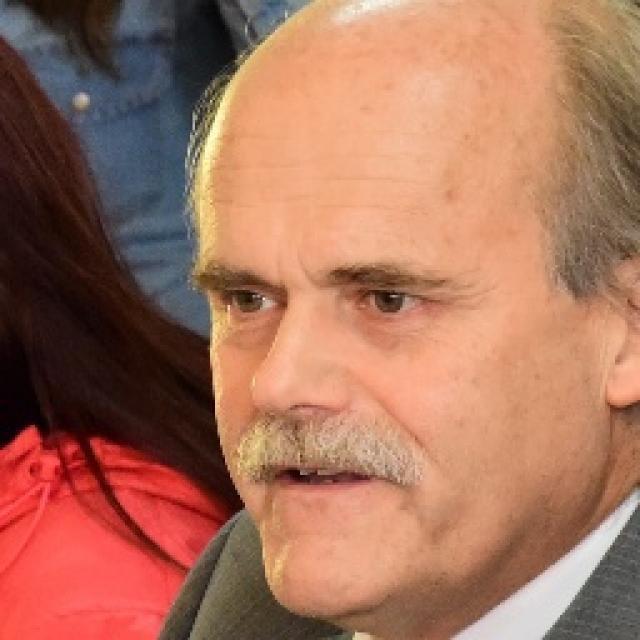earlobe: (606, 262, 640, 410)
